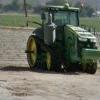Tractor: (18, 3, 100, 86)
